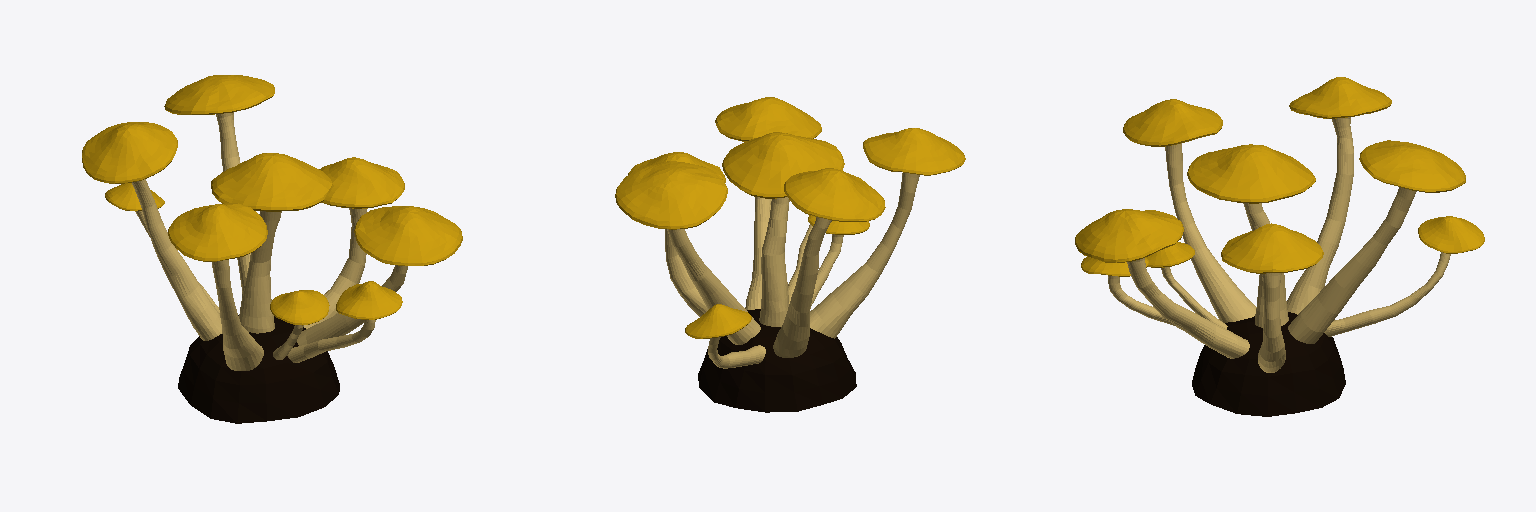
File: mushroom_cluster.obj
3 renders of one model, left to right at view 1: azimuth 30°, elevation 25°; view 2: azimuth 150°, elevation 25°; view 3: azimuth 270°, elevation 25°, orthographic.
Visible parts, largest first — view 1: shroom_cluster_01_Cylinder.001; view 2: shroom_cluster_01_Cylinder.001; view 3: shroom_cluster_01_Cylinder.001.
Boxes of the visible parts, box(x1,y1,x2,y2) form: shroom_cluster_01_Cylinder.001: box(82, 75, 462, 423); shroom_cluster_01_Cylinder.001: box(615, 97, 965, 412); shroom_cluster_01_Cylinder.001: box(1075, 77, 1484, 416).
Bounding box in the file's own units: 1.41 × 1.28 × 1.81.